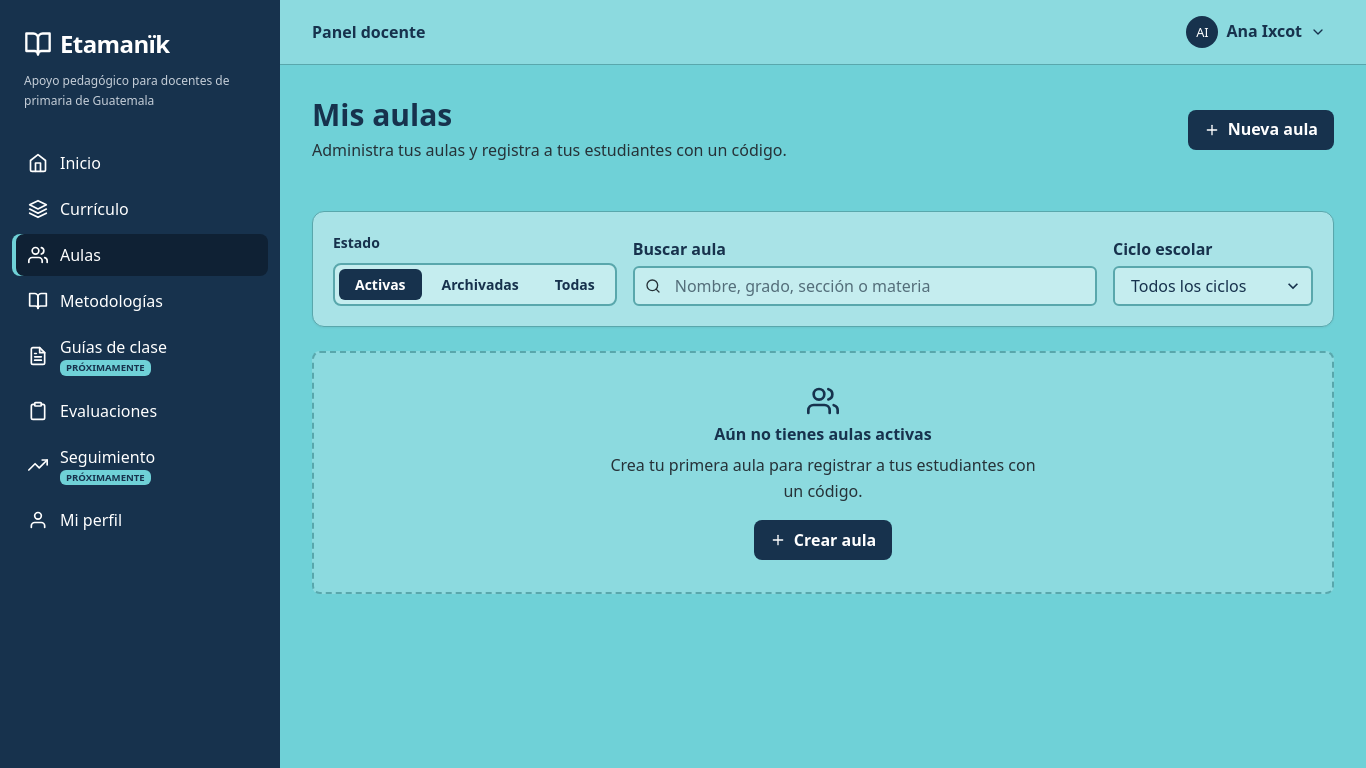
Test case: Listado de aulas › sin aulas: estado vacío con acción para crear la primera
The width and height of the screenshot is (1366, 768).
Expected: the heading "Aún no tienes aulas activas" is shown, [714,425,932,444]
Step 1. Click the button "Crear aula" → (823, 540), box [754,520,892,560]
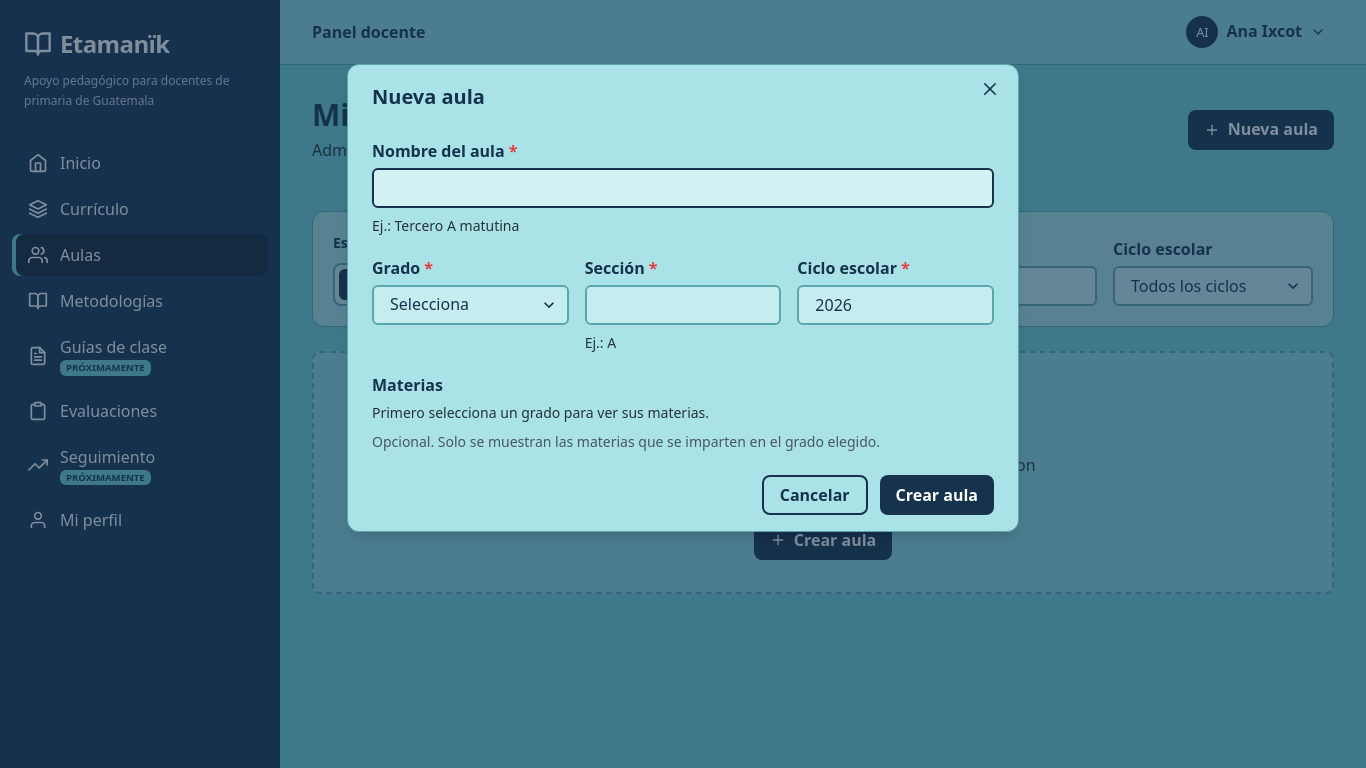
Result: the dialog shows "Nueva aula" at [372,83,485,110]
